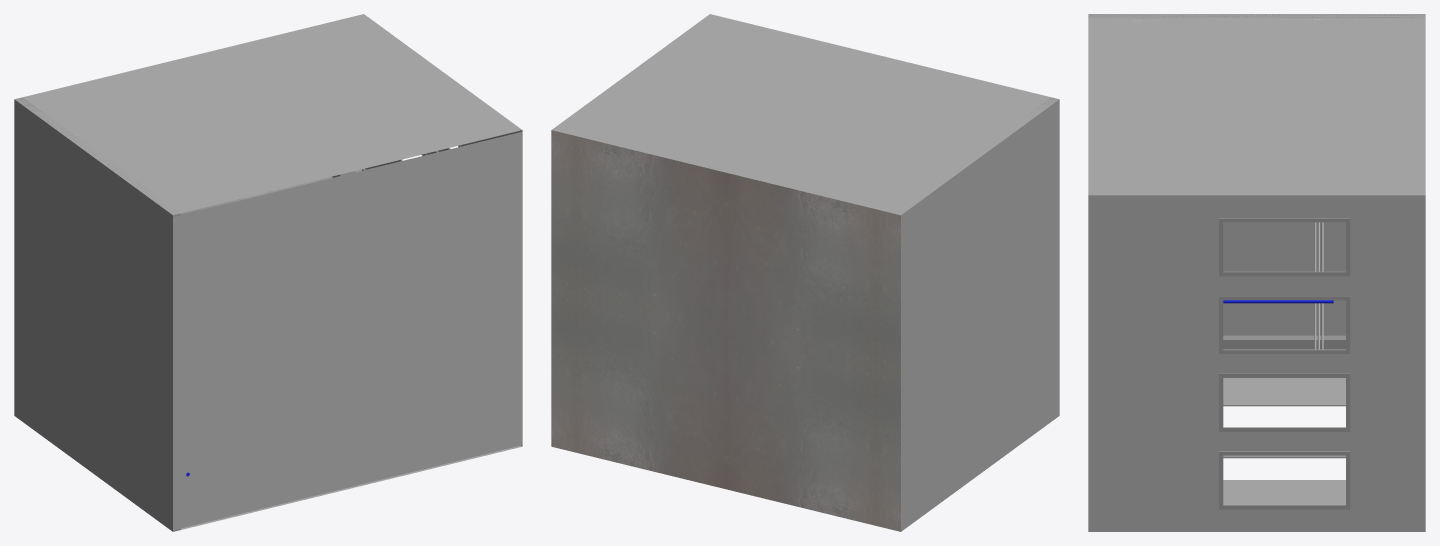
File: sala_robot_plain_complete.obj
The picture shows the model from 3 angles, left to right: view 1: azimuth 30°, elevation 25°; view 2: azimuth 150°, elevation 25°; view 3: azimuth 270°, elevation 25°; orthographic projection. The views are drawn at different scales.
Parts seen in each view (by area): view 1: Solid1:5, Solid1:2, Solid2, Solid3, Solid1:1, Solid1:3; view 2: Solid1, Solid1:2, Solid3, Solid2, Solid1:1; view 3: Solid1:4, Solid2, Solid3, Solid1:2, Solid1:3, Solid1:1, Solid4:2, Solid5:2, Solid3:2, Solid2:3, Solid3:1, Solid2:2 (+2 smaller).
Part boxes in pixels (x1,y1,x2,y2): Solid1:5: [173, 131, 522, 530]; Solid1:2: [14, 99, 172, 531]; Solid2: [197, 14, 521, 170]; Solid3: [15, 58, 339, 215]; Solid1:1: [182, 55, 355, 177]; Solid1:3: [181, 445, 521, 529]; Solid1: [551, 130, 900, 531]; Solid1:2: [901, 99, 1059, 531]; Solid3: [734, 58, 1058, 215]; Solid2: [552, 14, 876, 170]; Solid1:1: [719, 55, 891, 174]; Solid1:4: [1088, 195, 1425, 531]; Solid2: [1088, 108, 1425, 195]; Solid3: [1088, 14, 1425, 100]; Solid1:2: [1223, 222, 1345, 335]; Solid1:3: [1223, 378, 1345, 504]; Solid1:1: [1088, 100, 1425, 108]; Solid4:2: [1219, 218, 1350, 276]; Solid5:2: [1219, 451, 1350, 509]; Solid3:2: [1219, 373, 1350, 431]; Solid2:3: [1219, 296, 1350, 353]; Solid3:1: [1223, 335, 1345, 349]; Solid2:2: [1223, 402, 1345, 482].
Bounding box in the file's own units: 7018 × 6084 × 5503.
